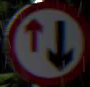Two way: (5, 4, 84, 80)
